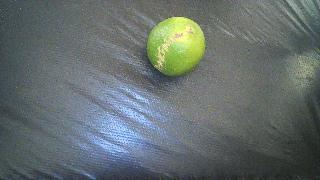DESECHO: (147, 17, 205, 76)
